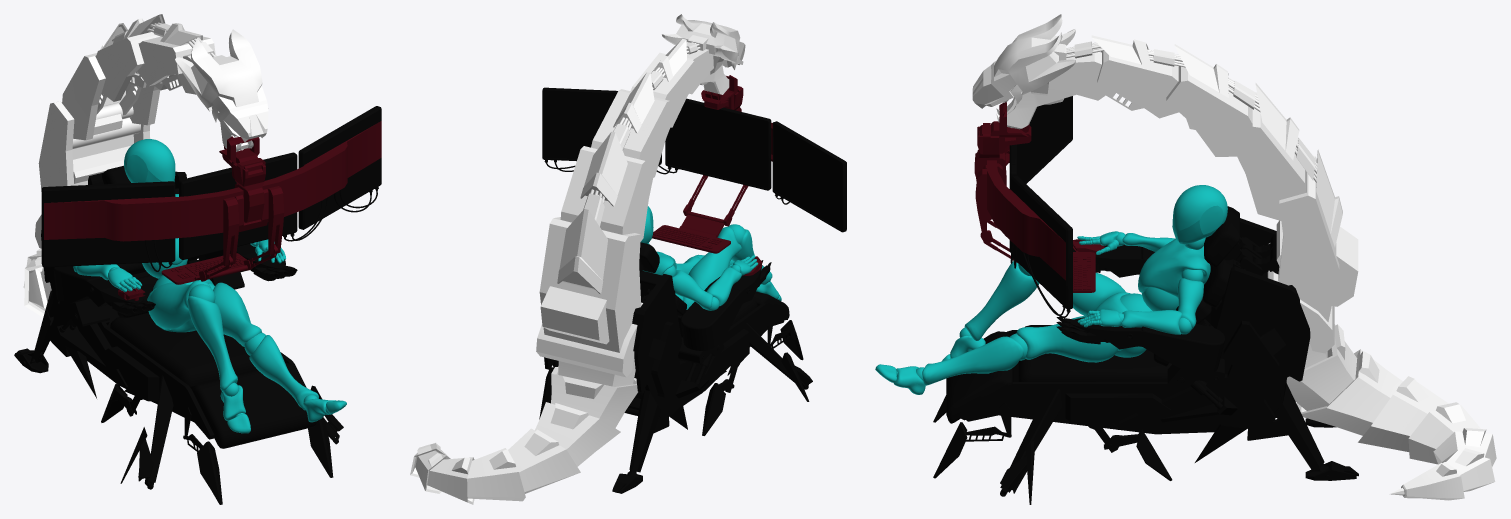
The model's file is dragon3.glb.
3 renders of one model, left to right at view 1: azimuth 30°, elevation 25°; view 2: azimuth 150°, elevation 25°; view 3: azimuth 270°, elevation 25°, orthographic. The views are drawn at different scales.
Visible parts, largest first — view 1: a1UVs3, a2UVs1, JUST_MAT_xBot_, a1UVs1, a1UVs4, mainHead, monitor_right, monitorMid, monitor_left, mech, tail_2_1, a2UVs1_3 (+1 smaller); view 2: a1UVs1, a1UVs3, tail_2_1, monitorMid, monitor_right, JUST_MAT_xBot_, monitor_left, mainHead, a2UVs1, a1UVs4; view 3: a1UVs3, a1UVs1, JUST_MAT_xBot_, tail_2_1, a1UVs4, mainHead, a2UVs1, monitor_right, monitor_left, a2UVs1_3.
Part boxes in pixels (x1,y1,x2,y2): a1UVs3: (14,171,343,504); a2UVs1: (44,121,381,300); JUST_MAT_xBot_: (73,139,346,433); a1UVs1: (35,14,216,248); a1UVs4: (102,165,378,448); mainHead: (175,29,268,151); monitor_right: (41,181,175,267); monitorMid: (179,152,297,259); monitor_left: (298,106,381,229); mech: (72,71,181,148); tail_2_1: (23,22,243,317); a2UVs1_3: (232,162,265,222); a1UVs1: (536,38,713,377); a1UVs3: (539,260,812,493); tail_2_1: (410,42,700,504); monitorMid: (665,98,771,190); monitor_right: (772,121,846,232); JUST_MAT_xBot_: (641,206,781,310); monitor_left: (542,87,661,164); mainHead: (662,14,745,94); a2UVs1: (652,123,772,275); a1UVs4: (544,160,789,340); a1UVs3: (933,218,1358,504); a1UVs1: (1031,35,1358,353); JUST_MAT_xBot_: (875,185,1227,394); tail_2_1: (1011,41,1496,500); a1UVs4: (946,206,1239,423); mainHead: (972,14,1075,129); a2UVs1: (975,145,1104,292); monitor_right: (1016,96,1072,183); monitor_left: (1011,175,1072,309); a2UVs1_3: (974,126,1006,185).
Bounding box in the file's own units: 17.77 × 20.7 × 27.25.
